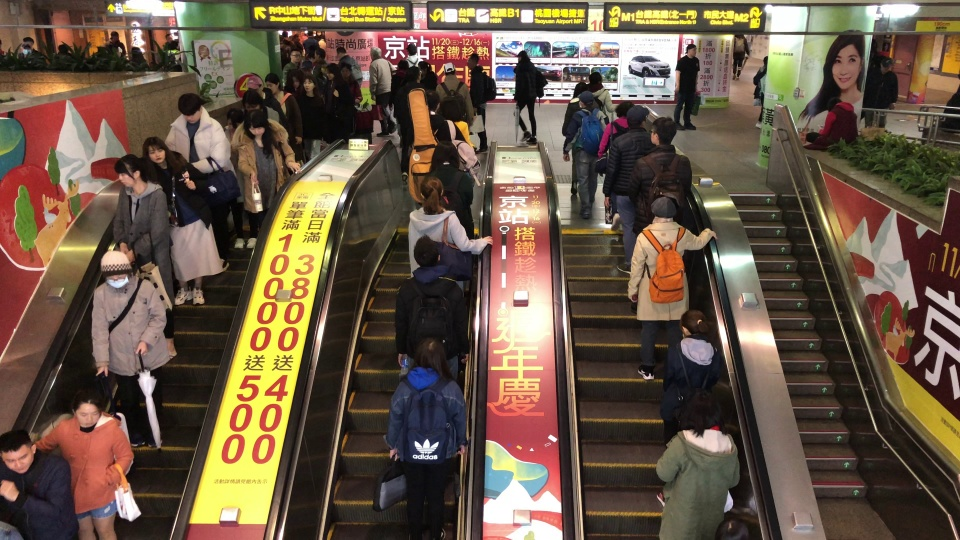person_head: (678, 390, 723, 435), (1, 428, 37, 476), (96, 251, 132, 290), (411, 337, 448, 371), (66, 393, 100, 427), (113, 154, 146, 187), (411, 235, 441, 268), (677, 308, 710, 338), (175, 93, 204, 124), (648, 115, 677, 146), (143, 136, 171, 166), (714, 518, 749, 540), (649, 194, 678, 220), (419, 177, 447, 203), (431, 144, 459, 168), (244, 108, 268, 135), (627, 104, 650, 129), (442, 99, 464, 122), (243, 91, 262, 110), (262, 73, 280, 93), (616, 99, 635, 117), (423, 90, 440, 110), (245, 73, 263, 91), (224, 109, 240, 128), (568, 81, 587, 96), (302, 75, 317, 93), (577, 91, 593, 107), (407, 66, 422, 83), (439, 62, 456, 76), (879, 56, 893, 73), (130, 46, 145, 61), (827, 97, 842, 112), (339, 63, 352, 80), (587, 72, 604, 85), (466, 53, 480, 68), (397, 59, 410, 75), (313, 47, 327, 61), (325, 63, 336, 80), (21, 35, 34, 49), (288, 50, 302, 63), (515, 49, 528, 62), (370, 46, 382, 60), (685, 43, 697, 57), (335, 46, 348, 58), (405, 44, 417, 56), (21, 43, 32, 55), (109, 31, 119, 41), (168, 40, 178, 50), (166, 32, 173, 41)
person_vbox: (627, 193, 718, 431), (372, 336, 470, 540), (86, 251, 181, 450), (109, 152, 187, 360), (159, 91, 246, 272), (141, 134, 231, 306), (653, 306, 721, 512), (652, 389, 741, 539), (52, 392, 142, 540), (393, 234, 471, 383), (406, 175, 493, 292), (405, 88, 482, 203), (605, 103, 656, 273), (0, 427, 70, 538), (231, 109, 305, 213), (630, 115, 693, 235), (562, 90, 610, 218), (222, 108, 261, 249), (595, 98, 636, 230), (426, 143, 478, 240), (511, 49, 548, 144), (801, 96, 859, 150), (465, 52, 496, 153), (860, 54, 900, 128), (562, 81, 587, 197), (261, 72, 302, 141), (368, 45, 399, 136), (669, 42, 699, 130), (401, 65, 423, 180), (436, 62, 475, 126), (244, 74, 286, 131), (299, 72, 323, 159), (323, 61, 346, 143), (440, 98, 474, 147), (585, 72, 619, 121), (336, 63, 362, 114), (391, 62, 411, 128), (335, 45, 364, 85), (281, 50, 305, 85), (732, 33, 749, 80), (309, 47, 331, 75), (107, 30, 127, 57), (403, 44, 423, 66), (167, 40, 183, 62)
